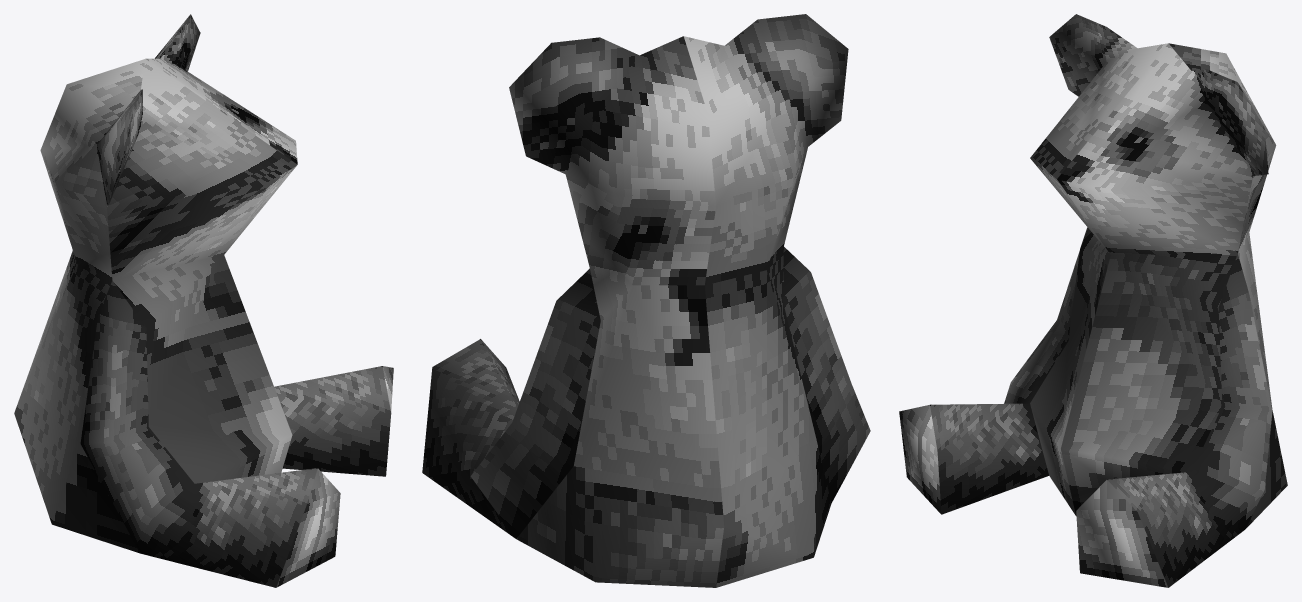
Rendered from int_pnd_m.dae.
3 views of the same model, side by side, from view 1: azimuth 30°, elevation 25°; view 2: azimuth 150°, elevation 25°; view 3: azimuth 270°, elevation 25° (orthographic). The views are drawn at different scales.
Parts seen in each view (by area): view 1: int_pnd_m; view 2: int_pnd_m; view 3: int_pnd_m.
Part boxes in pixels (x1=…): int_pnd_m: x1=14, y1=14, x2=393, y2=587; int_pnd_m: x1=422, y1=14, x2=870, y2=587; int_pnd_m: x1=899, y1=14, x2=1287, y2=587.
Bounding box in the file's own units: 28.57 × 35.2 × 28.57.
1 material, 1 textured.
